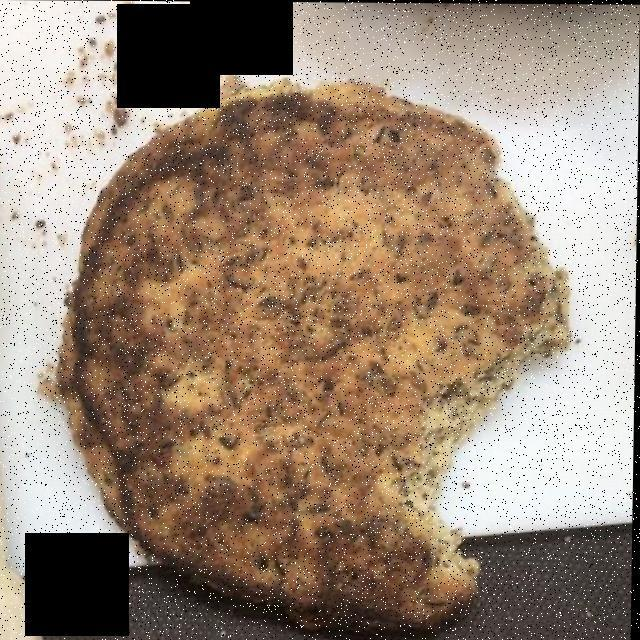pancakes: (67, 83, 561, 617)
